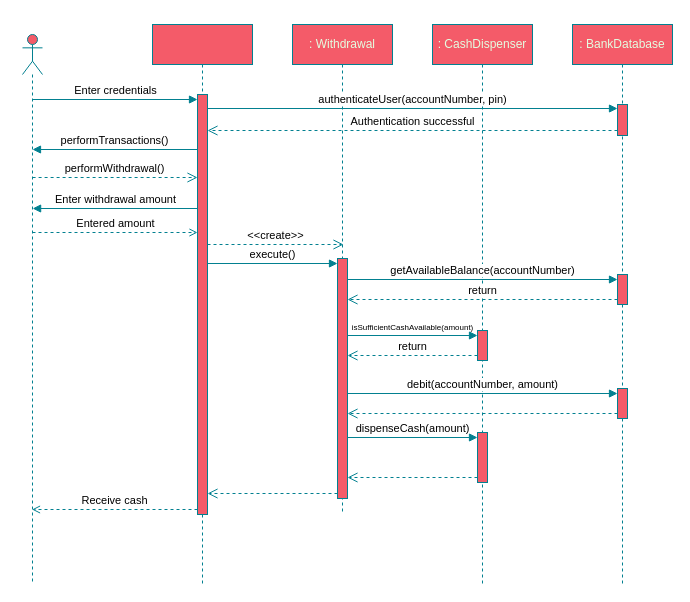
Image size: 690x602. Some labels were removed from this diagram. The shapes that lost their labels are listed below. From the top down, each one's box as (x1, y1, x2, y2) in pixels, then its label:
(22, 34, 42, 584): Client
(152, 24, 252, 584): : ATM
